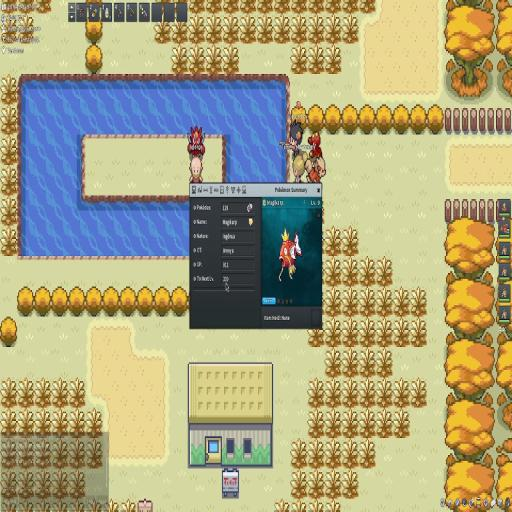SKIPANOUCE: (192, 183, 322, 330)
